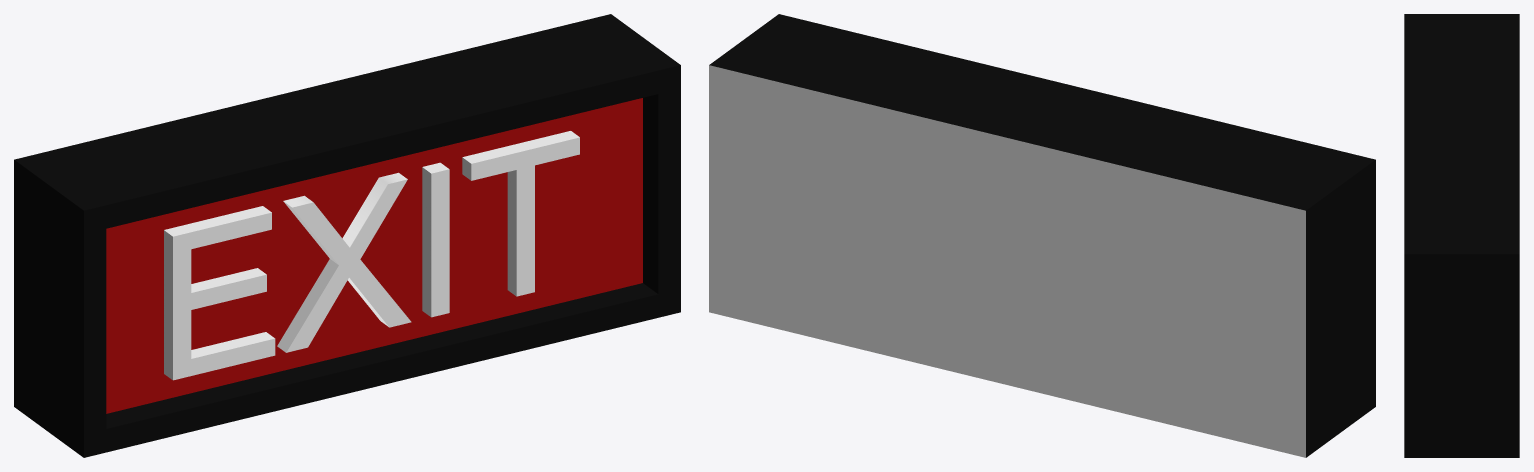
File: Exit.FBX
3 renders of one model, left to right at view 1: azimuth 30°, elevation 25°; view 2: azimuth 150°, elevation 25°; view 3: azimuth 270°, elevation 25°, orthographic. The views are drawn at different scales.
Parts seen in each view (by area): view 1: Box001; view 2: Box001; view 3: Box001.
Boxes of the visible parts, x1,y1,x2,y2 form: Box001: (14,14,680,457); Box001: (709,14,1375,457); Box001: (1404,14,1519,457).
Bounding box in the file's own units: 26.64 × 10.54 × 5.4.
